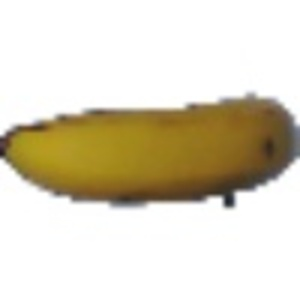banana: (1, 89, 297, 198)
